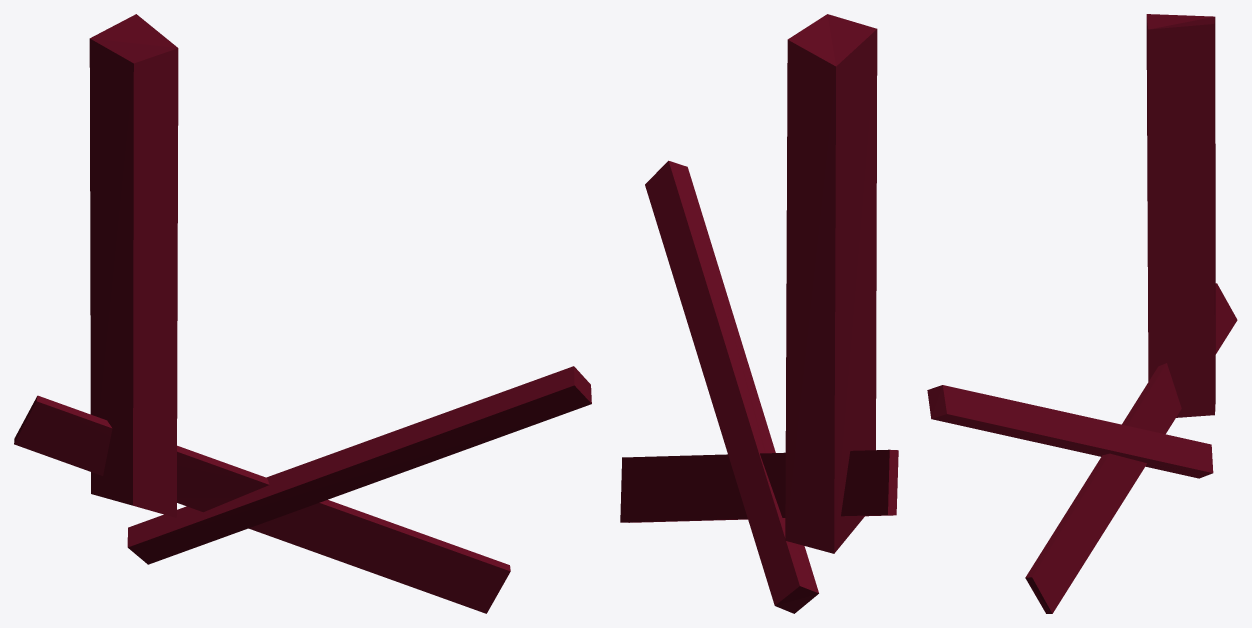
3 views of the same model, side by side, from view 1: azimuth 30°, elevation 25°; view 2: azimuth 150°, elevation 25°; view 3: azimuth 270°, elevation 25° (orthographic). The views are drawn at different scales.
Visible parts, largest first — view 1: 011_Cube.056; view 2: 011_Cube.056; view 3: 011_Cube.056.
Part boxes in pixels (x1,y1,x2,y2): 011_Cube.056: (14, 14, 591, 613); 011_Cube.056: (620, 14, 898, 613); 011_Cube.056: (927, 14, 1237, 613).
Bounding box in the file's own units: 10.98 × 15.16 × 8.72.
